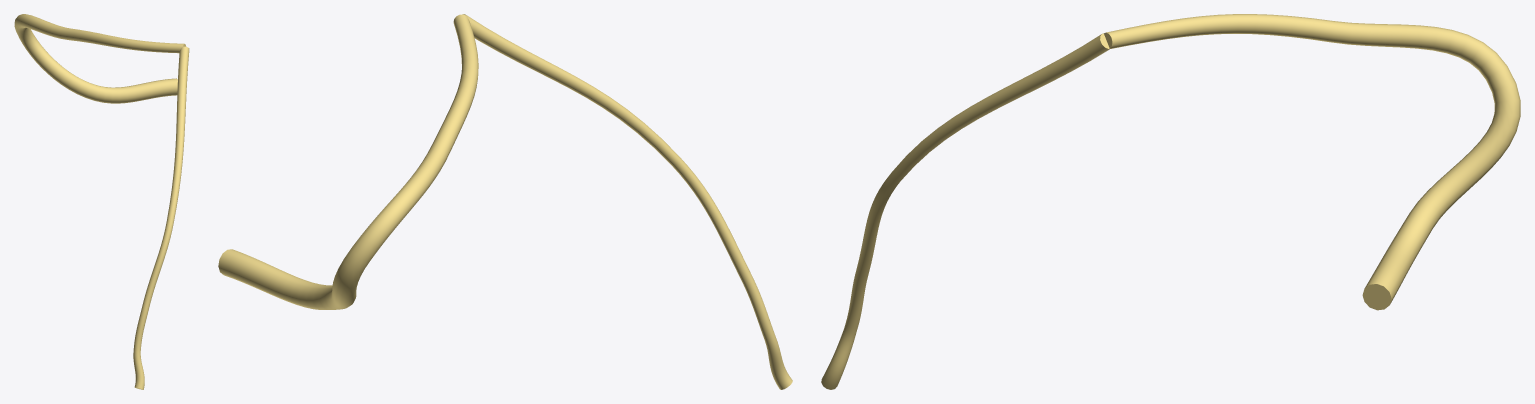
3 views of the same model, side by side, from view 1: azimuth 30°, elevation 25°; view 2: azimuth 150°, elevation 25°; view 3: azimuth 270°, elevation 25° (orthographic). The views are drawn at different scales.
Parts seen in each view (by area): view 1: ZA_21a7bd5b9c0a9488; view 2: ZA_21a7bd5b9c0a9488; view 3: ZA_21a7bd5b9c0a9488.
Part boxes in pixels (x1,y1,x2,y2): ZA_21a7bd5b9c0a9488: (14, 14, 189, 389); ZA_21a7bd5b9c0a9488: (218, 14, 792, 389); ZA_21a7bd5b9c0a9488: (821, 14, 1520, 389).
Bounding box in the file's own units: 0.0187 × 0.0235 × 0.0323.
